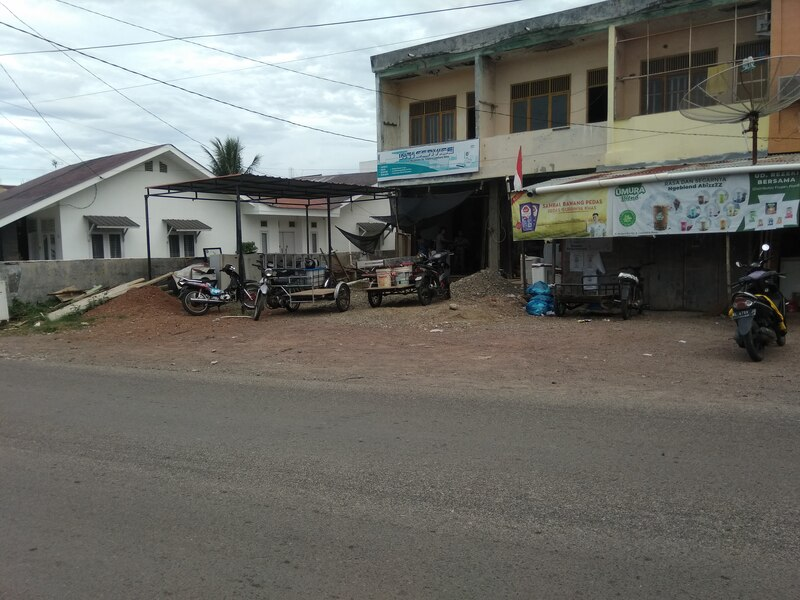becak barang: (249, 258, 358, 325), (548, 256, 649, 324), (363, 245, 465, 308)
motorcycle: (725, 241, 792, 361), (176, 261, 269, 318)
